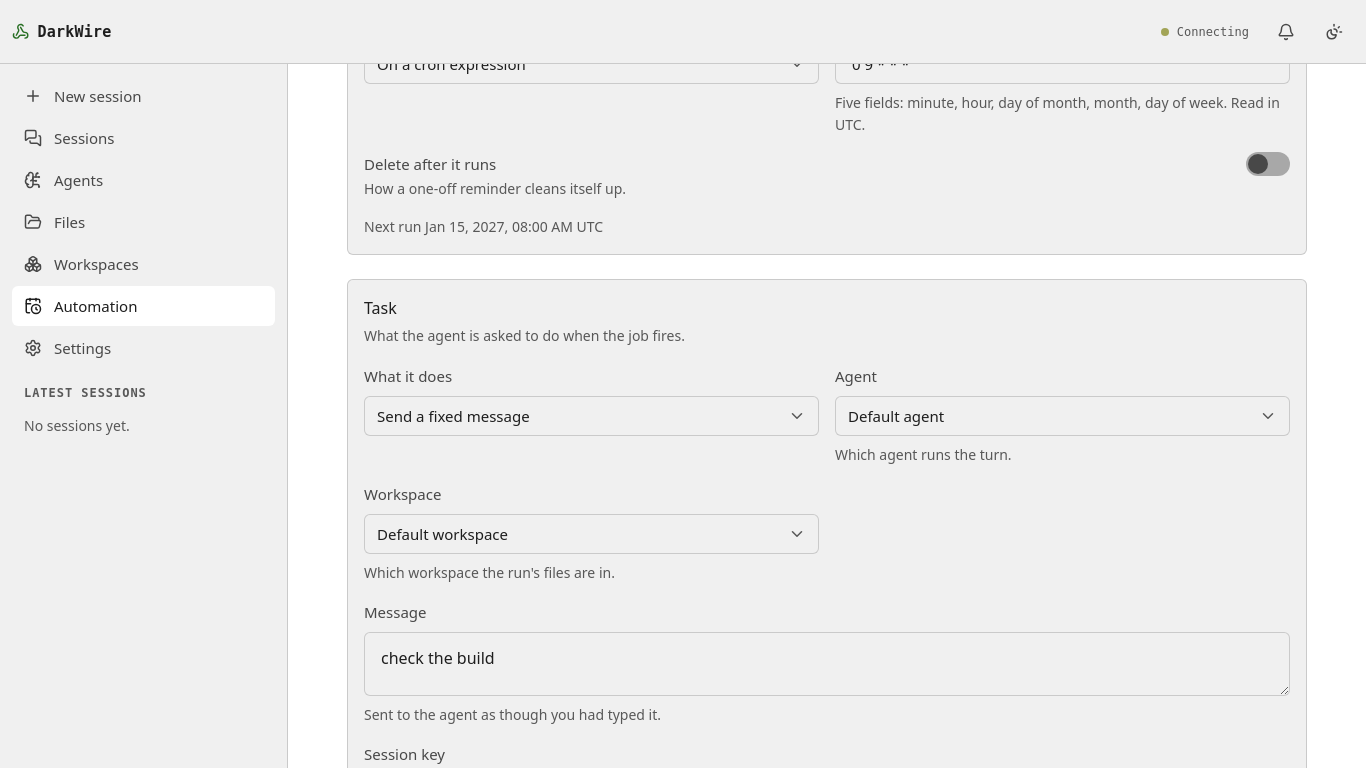
Test case: the job editor › switches which payload fields exist when the kind changes
(page scrolled)
Expected: the text box labelled "Message" is shown, [364,632,1290,696]
Click the dropdown named "What it does": click(453, 416) [364,396,819,436]
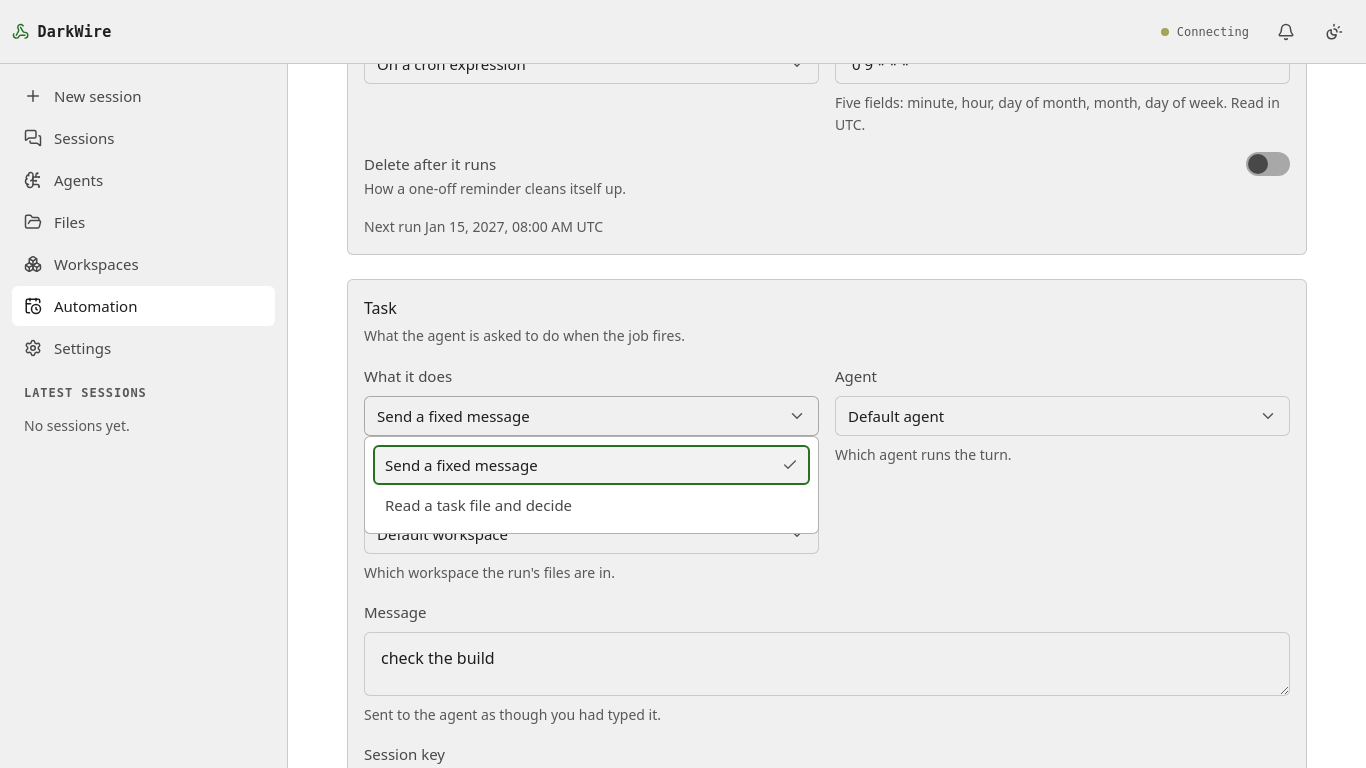
Click the option "Read a task file and decide": click(479, 505) [385,495,572,515]
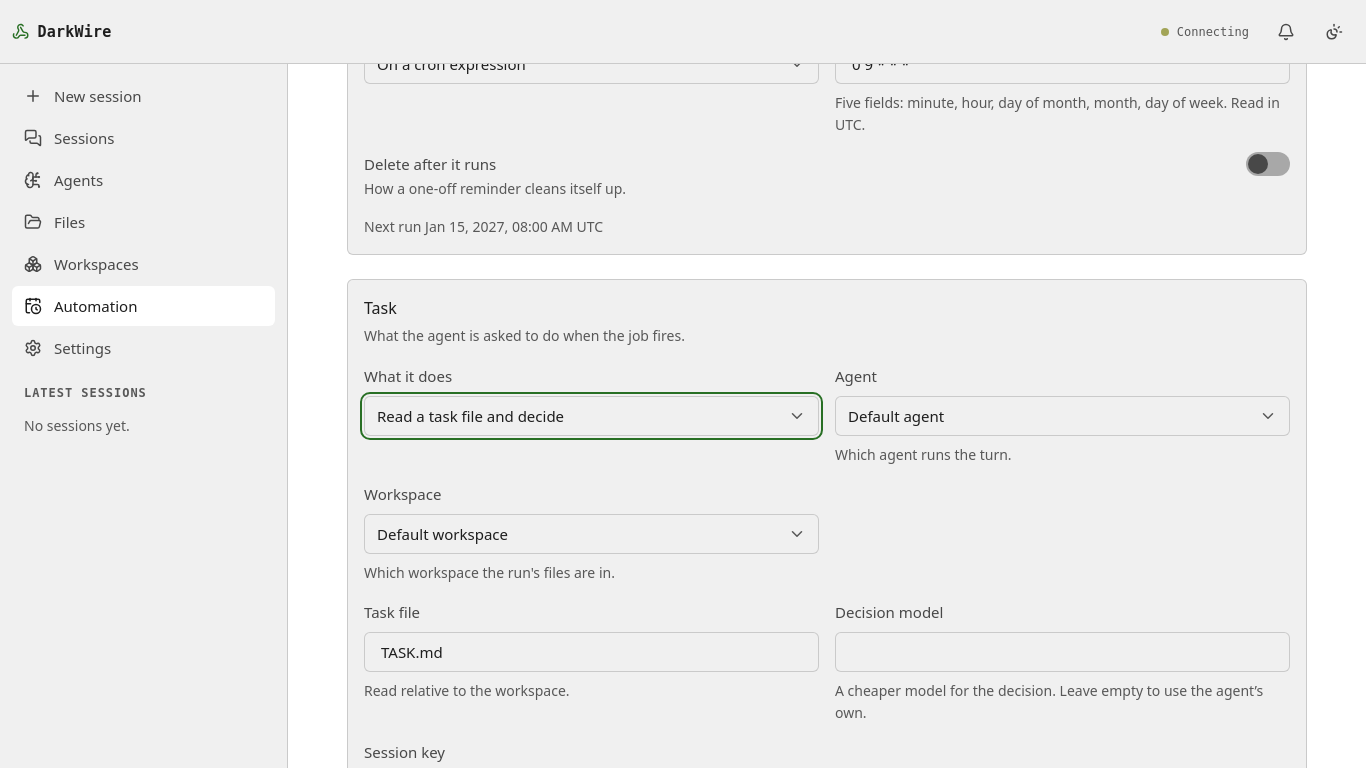
Now the field labelled "Task file" is shown, box [364,632,819,672]
Now the dropdown labelled "message" is gone
